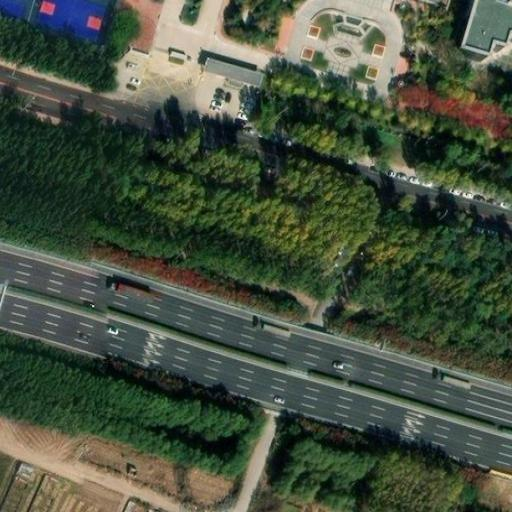building: (457, 0, 512, 63), (205, 56, 269, 88)
